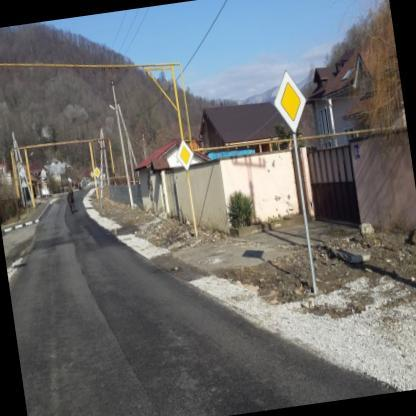road_sign: (275, 72, 306, 132), (178, 140, 193, 171)
